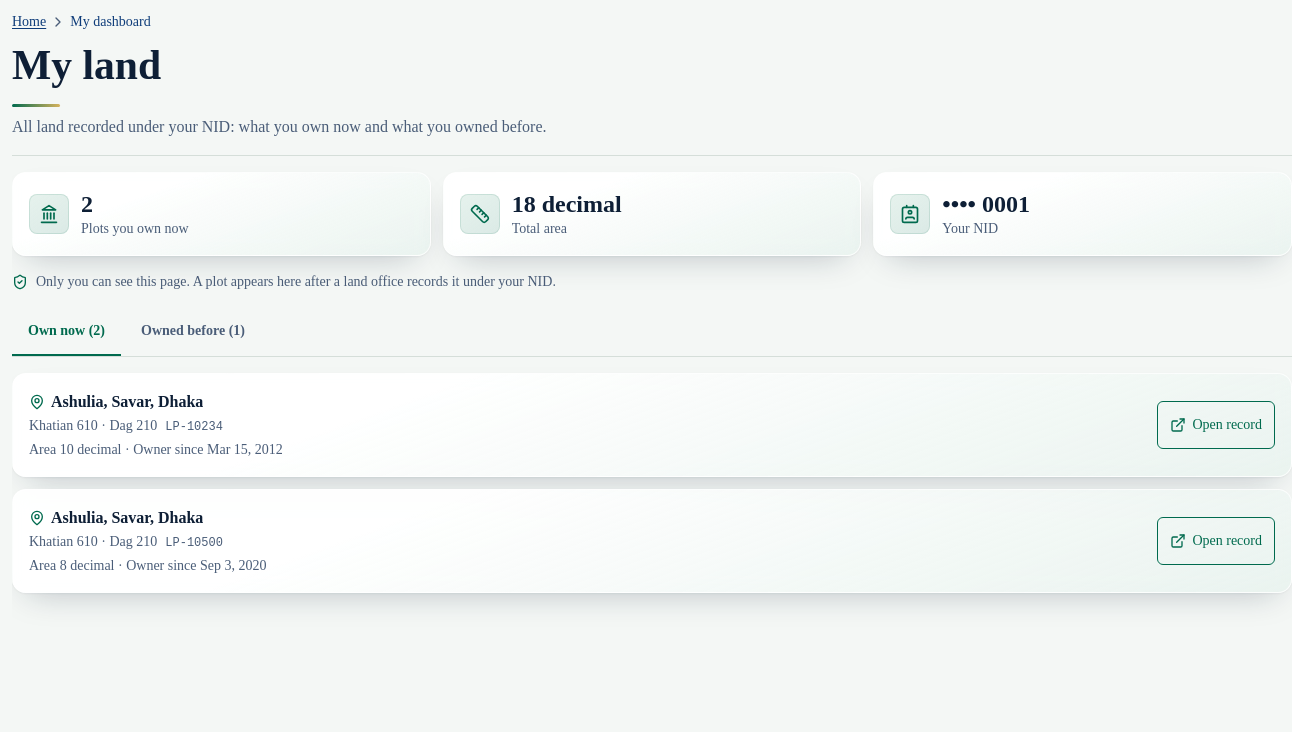
Test case: My land (NID) › shows the count, total area, masked NID, and current / past land
Expected: the list item with test id "my-land-count" shows "2", top-left (81, 191), bottom-right (93, 217)
Expected: the list item with test id "my-land-area" shows "18 decimal", top-left (512, 191), bottom-right (622, 217)
Click the tab "Owned before (1)".
click(193, 332)  # box top-left (125, 308), bottom-right (261, 356)
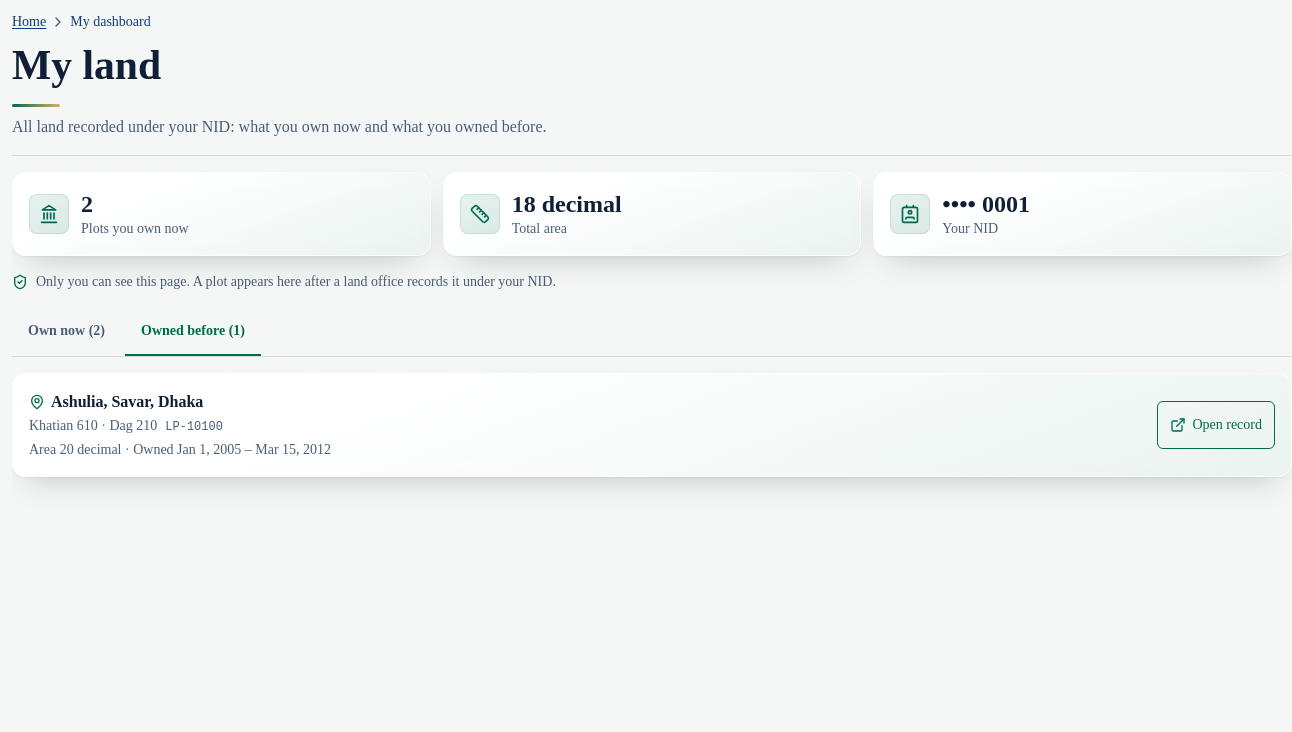
Expected: the text "LP-10100" is shown, top-left (165, 420), bottom-right (223, 434)
